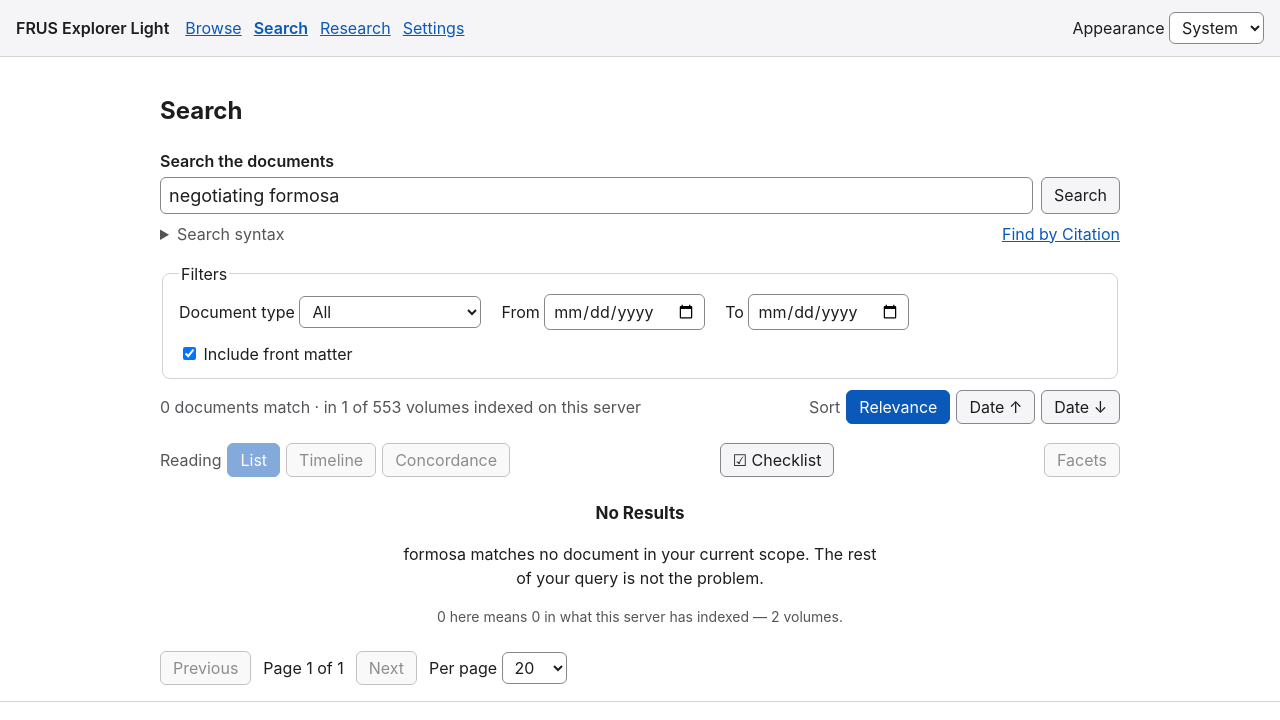
it: a search that found nothing › waits for the search shown to be the one made before it says why that one found nothing
The image size is (1280, 720).
Expected: the text "formosa matches no document" is shown, [404, 544, 876, 588]
Step 1. Replace the text in the search field labelled "Search the documents" with "negotiating" → (596, 195), box [160, 177, 1033, 214]
Then press Enter
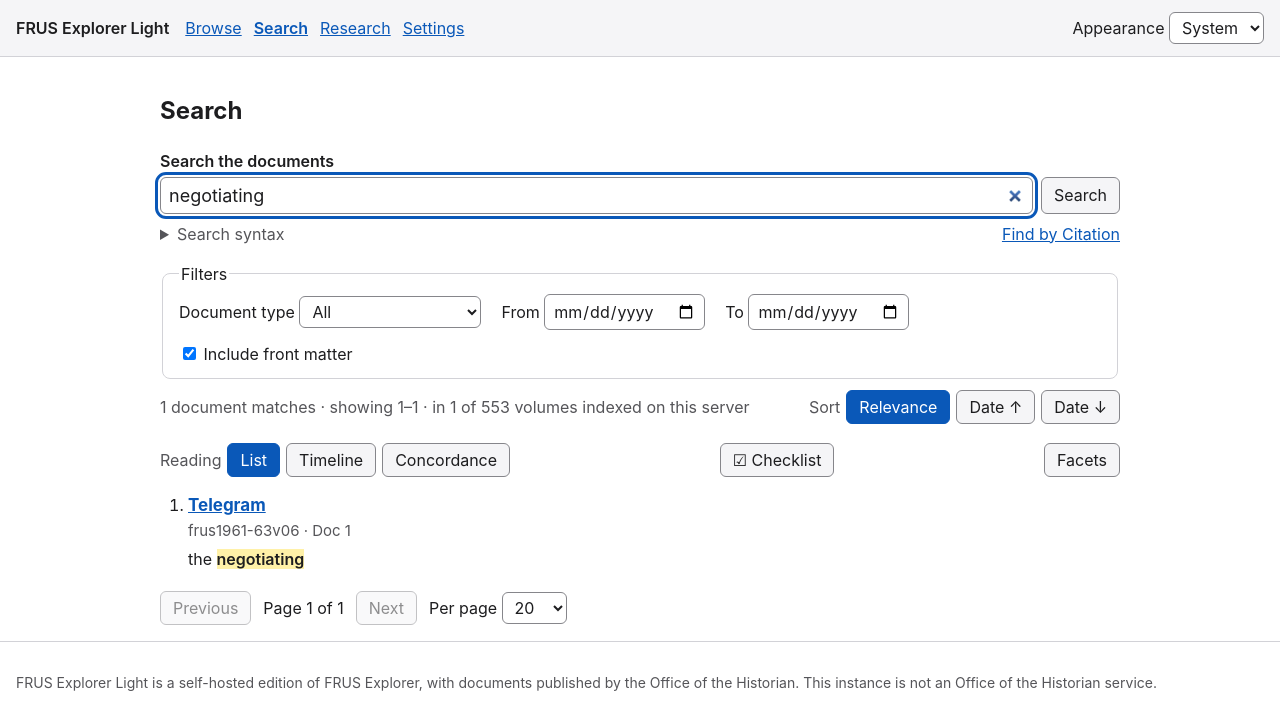
Now the heading "No Results" is gone
Now the link "Telegram" is shown, box [188, 495, 266, 515]
